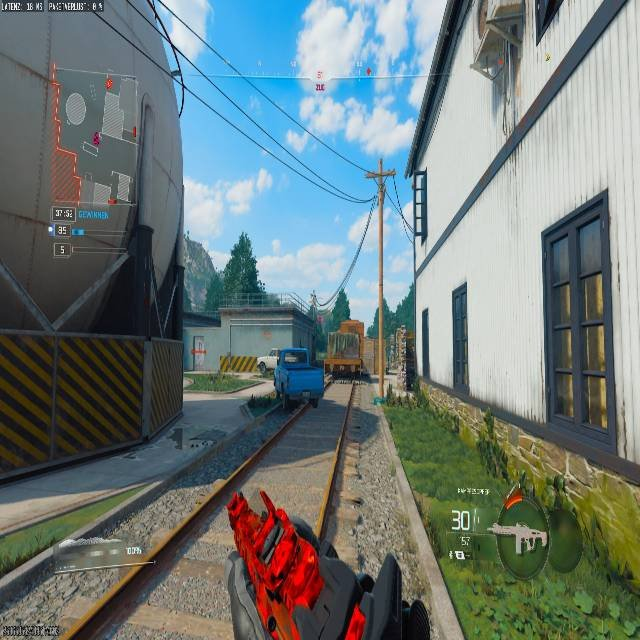player: (257, 360, 268, 376), (309, 289, 318, 307)
